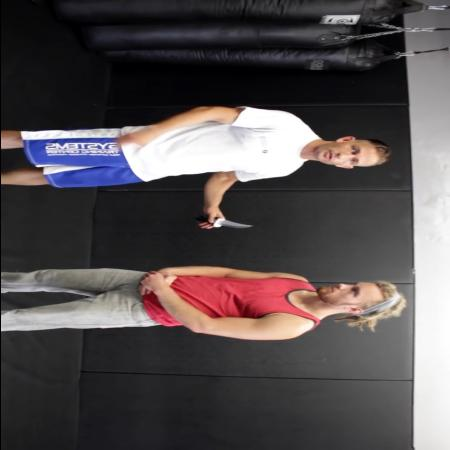long weapon: (188, 210, 262, 236)
